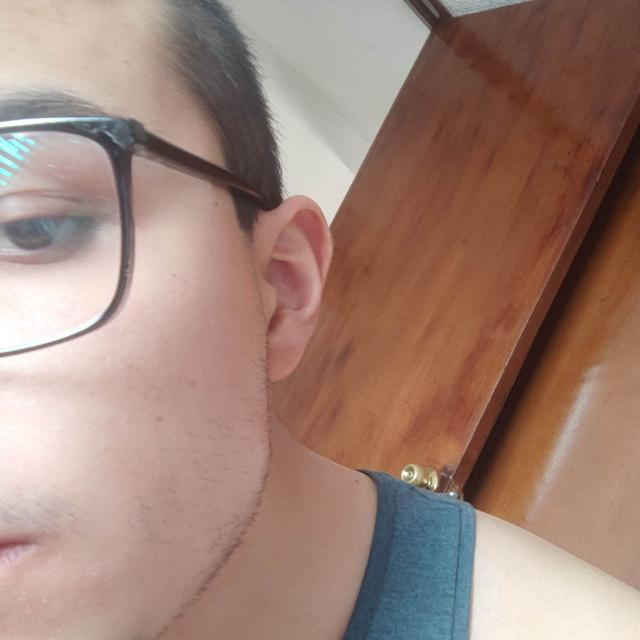ear: (257, 196, 331, 381)
